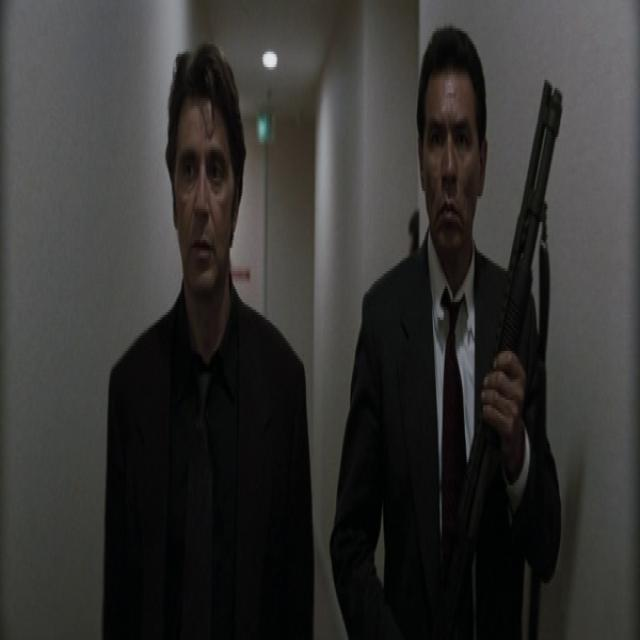rifle: (423, 72, 571, 638)
